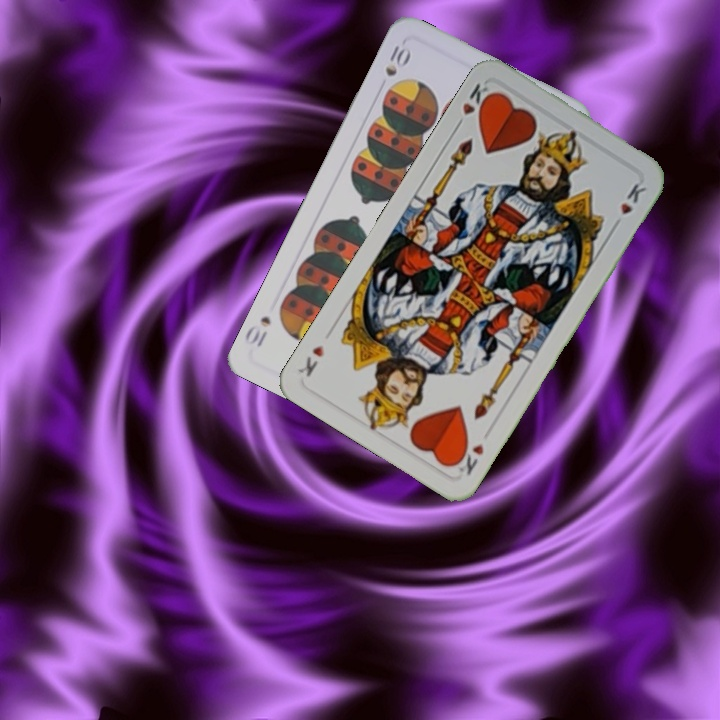HK: (451, 79, 496, 132), (450, 438, 486, 478)
S10: (381, 39, 414, 79)
